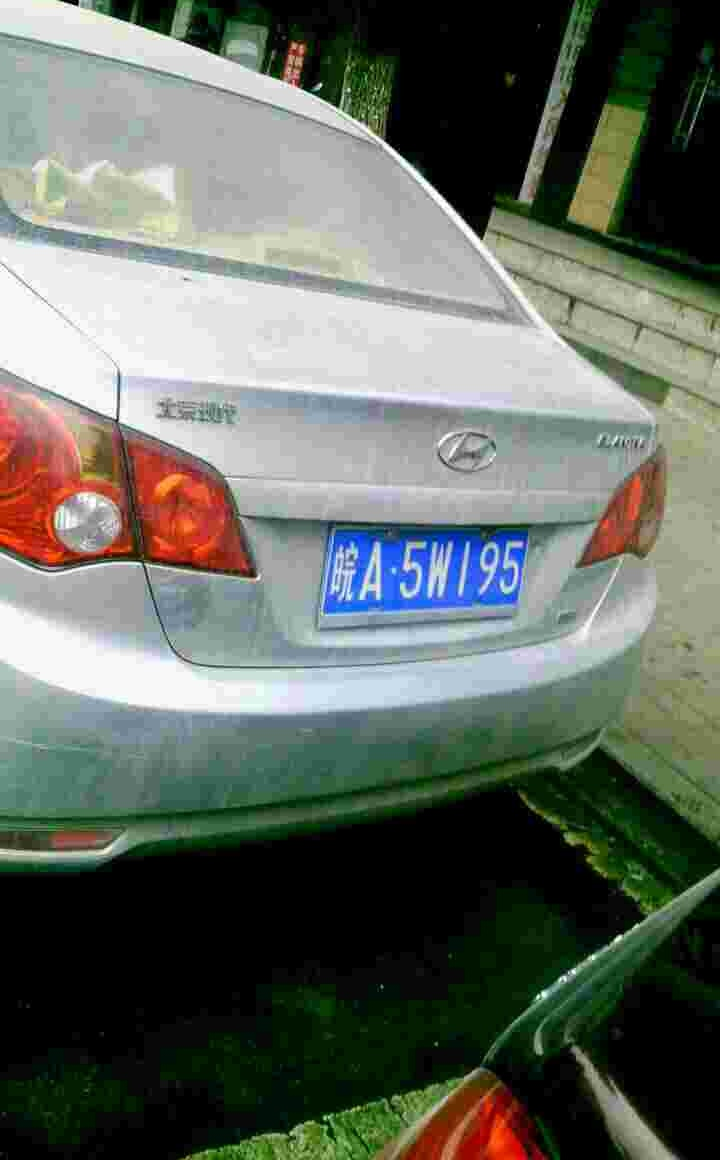plate: (327, 520, 542, 618)
